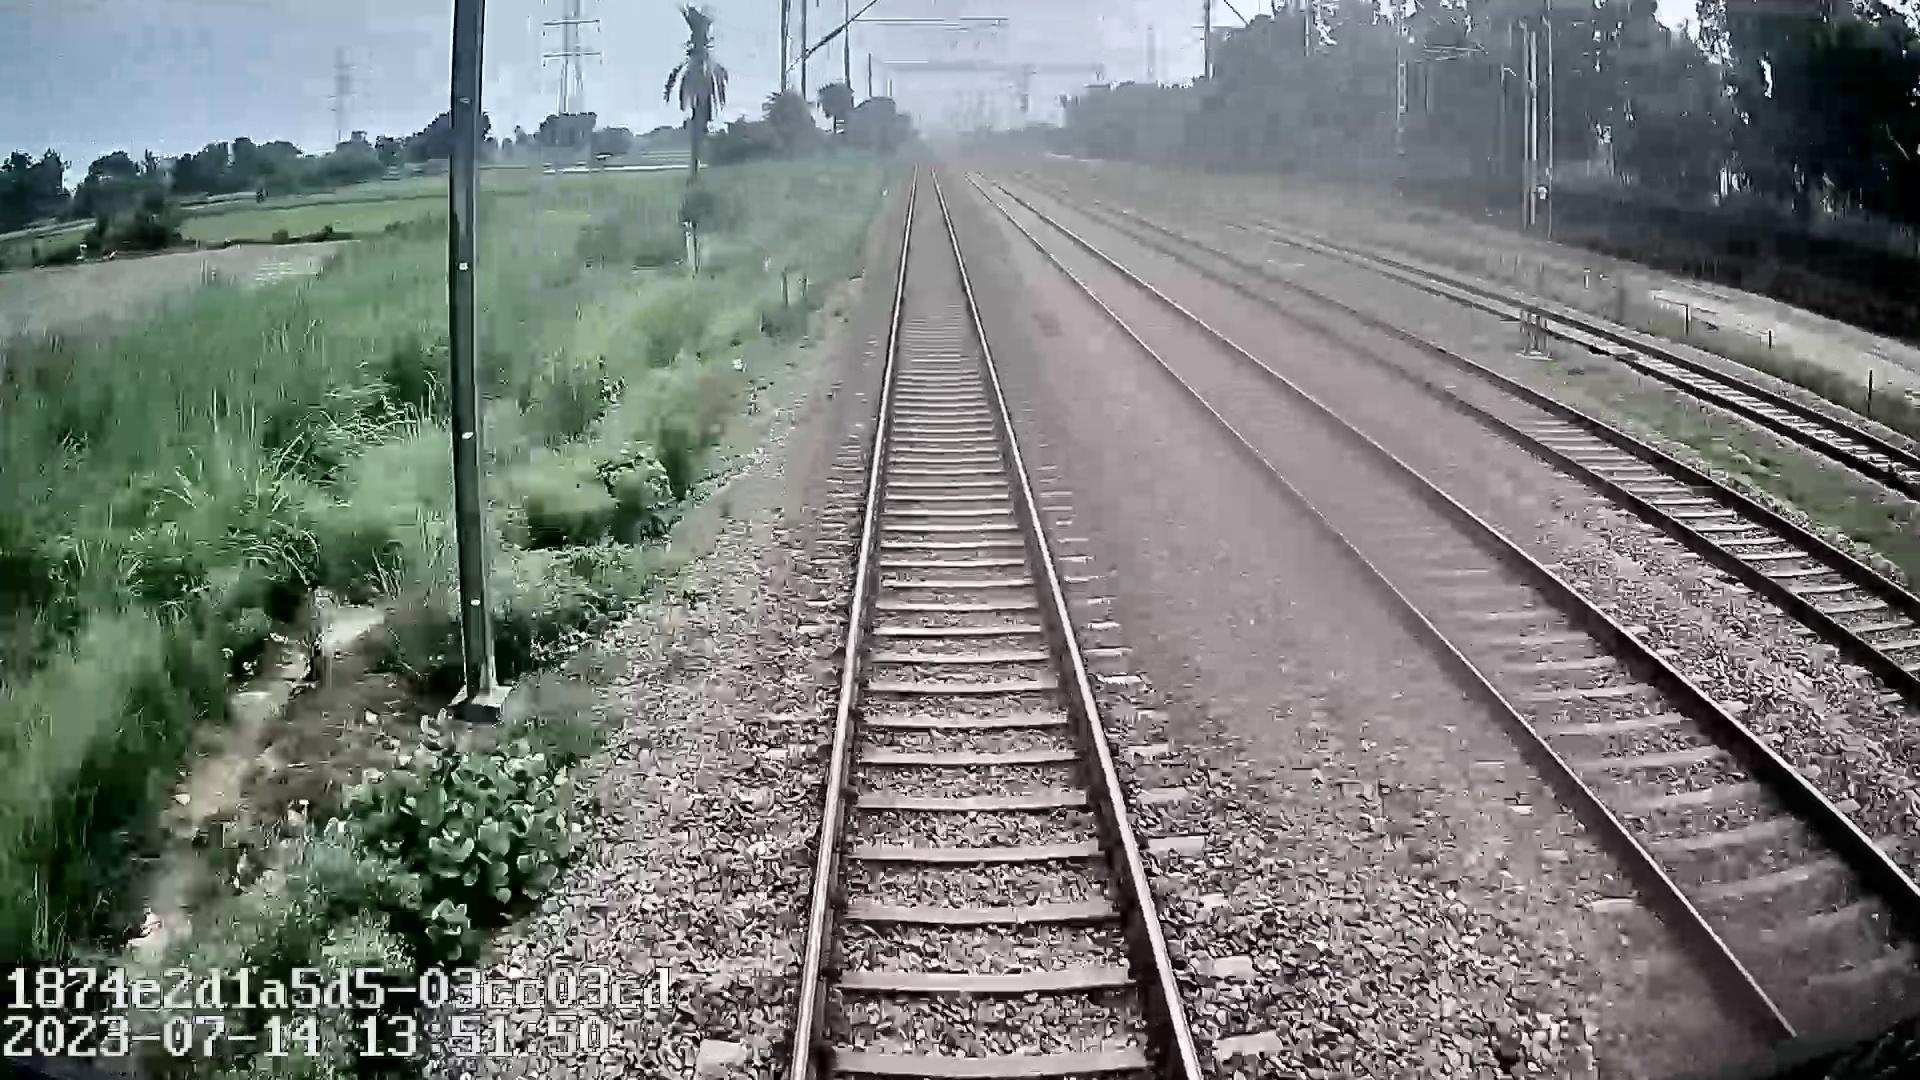track1: (799, 165, 1191, 1065)
track2: (1073, 250, 1904, 1028)
track3: (1141, 236, 1911, 652)
track4: (1269, 232, 1919, 487)
